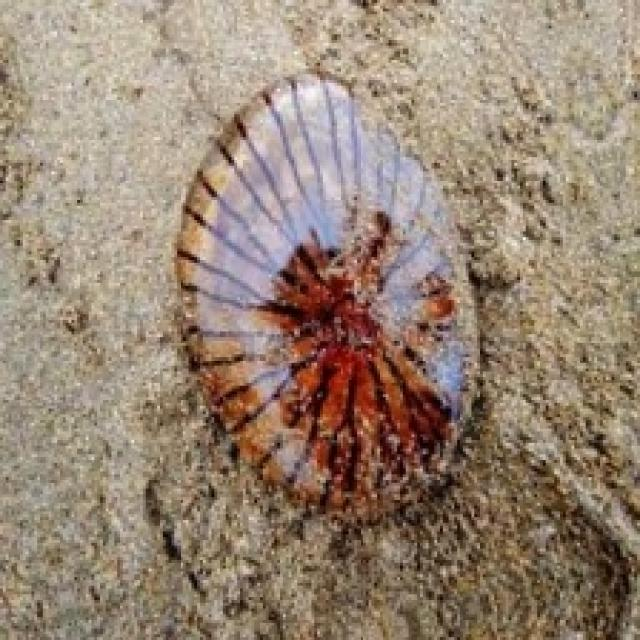Box-jellyfish: (171, 68, 480, 526)
